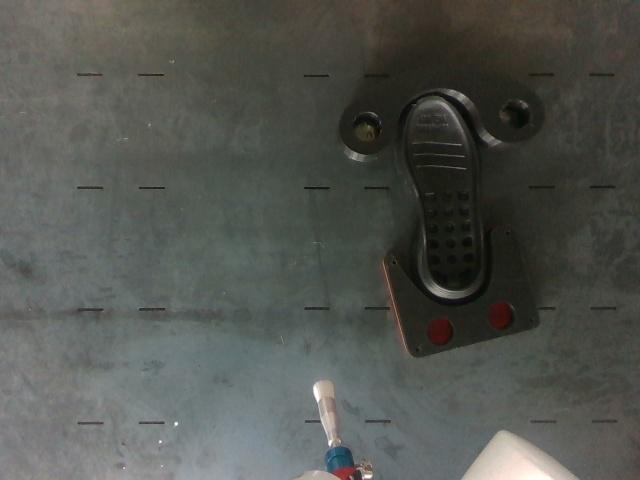shoes: (405, 95, 481, 292)
